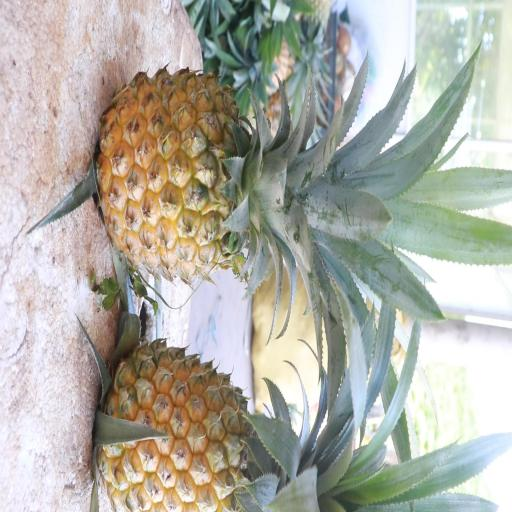Pineapple - v8 v1: (90, 63, 329, 294), (93, 337, 337, 512)
